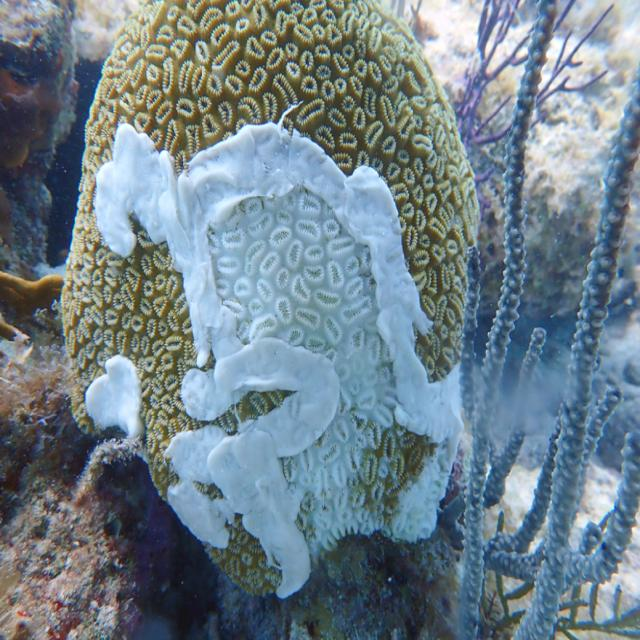Coral: (61, 0, 480, 600), (456, 0, 640, 640)
